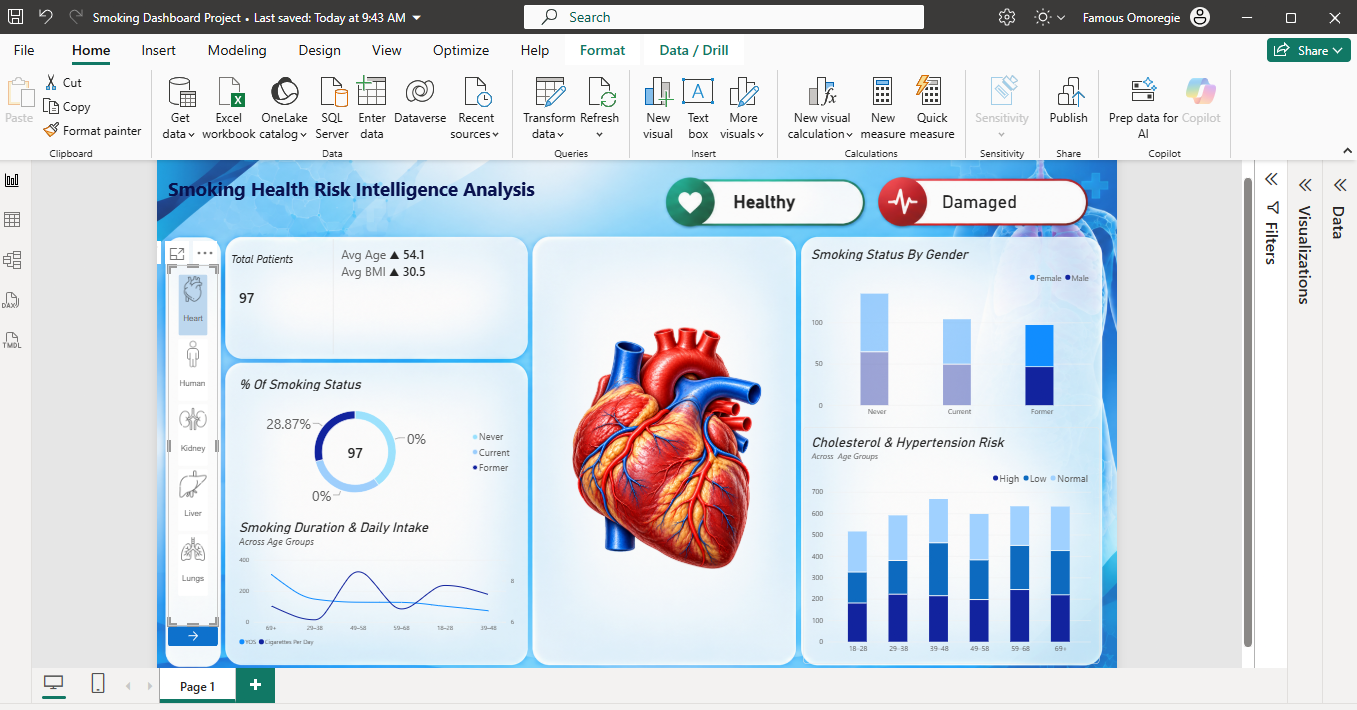

Layout of this report page (visuals, bound fields, positions):
{"tool":"powerbi","page":{"name":"Page 1","canvas":[1920,1080],"ordinal":0},"visuals":[{"type":"advancedSlicerVisual","fields":{"Values":["condition.Organ_Condition"]},"box":[1003.5,51,852.5,102],"z":0},{"type":"cardVisual","fields":{"Data":["CountNonNull(health_dataset.Patient_ID)"]},"box":[148.8,178.6,582.5,231.7],"z":1000},{"type":"textbox","box":[148.8,202,244.5,27.6],"z":2000},{"type":"actionButton","box":[21.3,952.4,99.9,40.4],"z":3000},{"type":"ChicletSlicer1448559807354","fields":{"Category":["Organs.Organ"],"Image":["Organs.Icon_URL"]},"box":[21.3,229.6,99.9,722.8],"z":4000},{"type":"image","box":[756.9,178.6,514.5,835.5],"z":5000},{"type":"donutChart","title":"% Of Smoking Status","fields":{"Category":["health_dataset.Smoking_Status"],"Y":["CountNonNull(health_dataset.Smoking_Status)"]},"box":[148.8,438,582.5,287],"z":6000},{"type":"lineChart","title":"Smoking Duration & Daily Intake","fields":{"Category":["health_dataset.Age Group"],"Y":["Sum(health_dataset.Years_of_Smoking)"],"Y2":["Avg(health_dataset.Cigarettes_Per_Day)"]},"box":[148.8,725,582.5,289.1],"z":7000},{"type":"ribbonChart","title":"Smoking Status By Gender","fields":{"Category":["health_dataset.Smoking_Status"],"Series":["health_dataset.Gender"],"Y":["CountNonNull(health_dataset.Patient_ID)"]},"box":[1292.6,178.6,593.1,376.3],"z":7001},{"type":"columnChart","title":"Cholesterol & Hypertension Risk","fields":{"Category":["health_dataset.Age Group"],"Series":["health_dataset.BP_Risk"],"Y":["Avg(health_dataset.Cholesterol_Level)"]},"box":[1292.6,554.9,593.1,474.1],"z":7002},{"type":"textbox","box":[21.3,51,778.1,102],"z":7003}]}

Visuals, with their boxes on the page's 1920x1080 design canvas (x1, y1, x2, y2). These are canvas units, not pixel positions in the 1357x710 screenshot, which may show the page scaled, cropped or inside an application window:
advancedSlicerVisual - condition.Organ_Condition: (x1=1004, y1=51, x2=1856, y2=153)
cardVisual - CountNonNull(health_dataset.Patient_ID): (x1=149, y1=179, x2=731, y2=410)
textbox: (x1=149, y1=202, x2=393, y2=230)
actionButton: (x1=21, y1=952, x2=121, y2=993)
ChicletSlicer1448559807354 - Organs.Organ x Organs.Icon_URL: (x1=21, y1=230, x2=121, y2=952)
image: (x1=757, y1=179, x2=1271, y2=1014)
"% Of Smoking Status" donutChart: (x1=149, y1=438, x2=731, y2=725)
"Smoking Duration & Daily Intake" lineChart: (x1=149, y1=725, x2=731, y2=1014)
"Smoking Status By Gender" ribbonChart: (x1=1293, y1=179, x2=1886, y2=555)
"Cholesterol & Hypertension Risk" columnChart: (x1=1293, y1=555, x2=1886, y2=1029)
textbox: (x1=21, y1=51, x2=799, y2=153)
